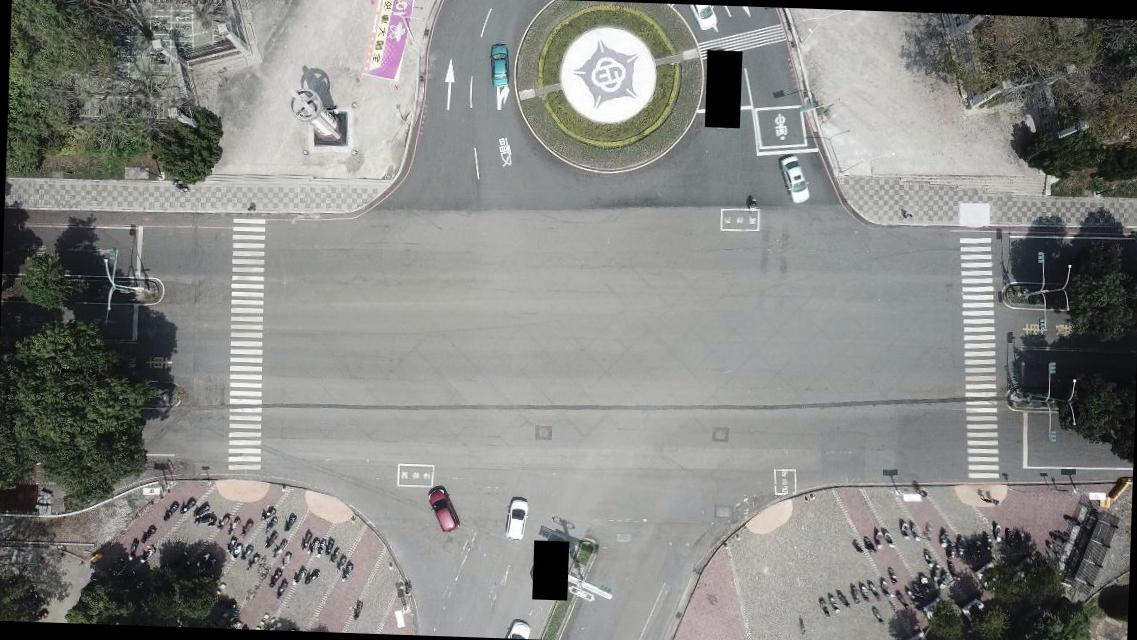vehicle: (424, 486, 460, 533), (778, 156, 811, 202), (505, 497, 528, 541), (490, 43, 510, 87), (687, 5, 718, 31), (502, 620, 532, 638)
